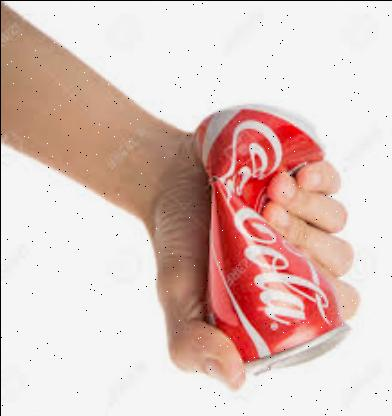Can: (194, 95, 350, 377)
